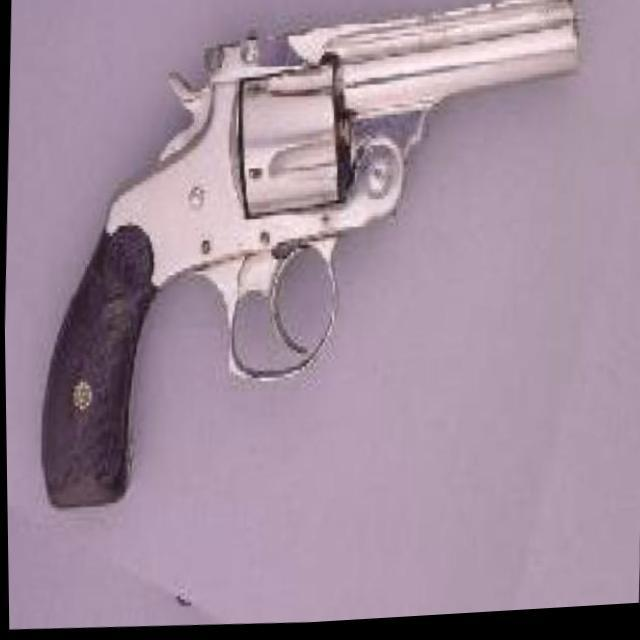weapon: (30, 0, 586, 526)
